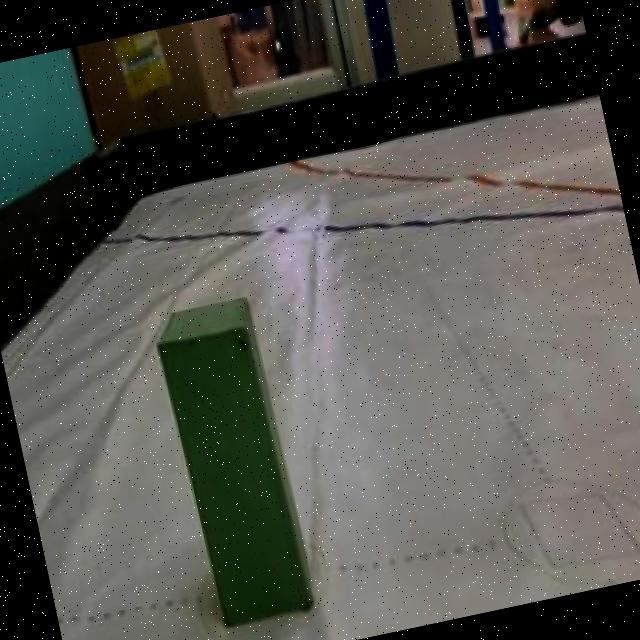greenbox: (150, 288, 316, 631)
